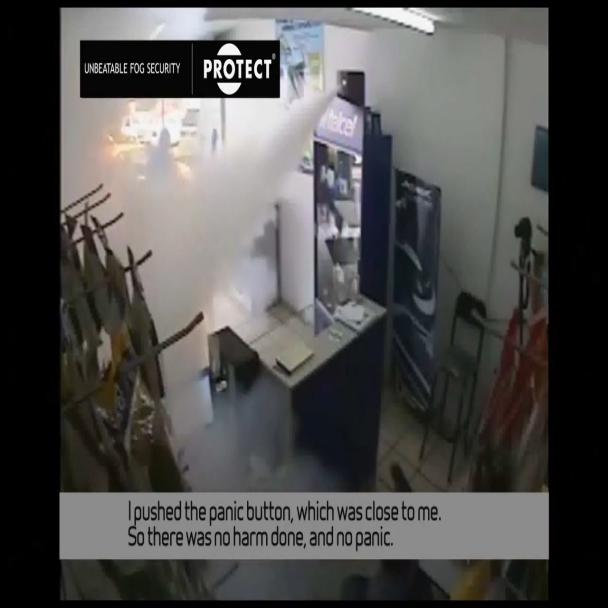smoke: (84, 70, 369, 367)
